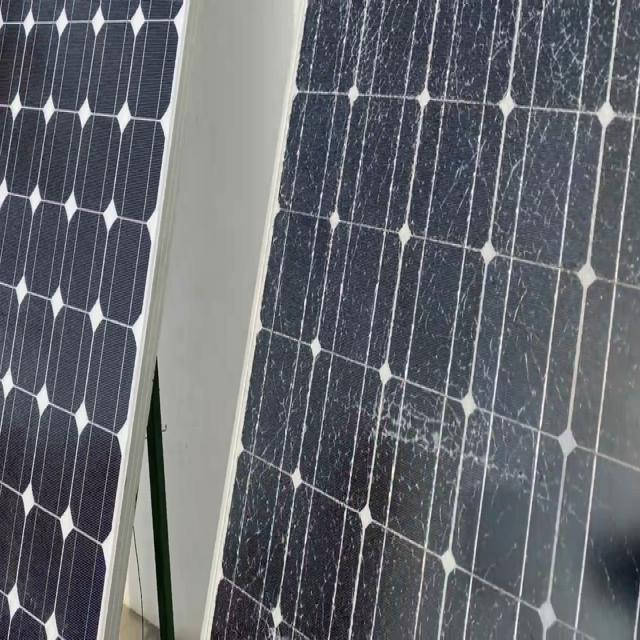Normal Solar Panel: (0, 0, 185, 640)
